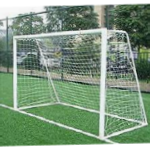goals: (11, 27, 149, 140)
